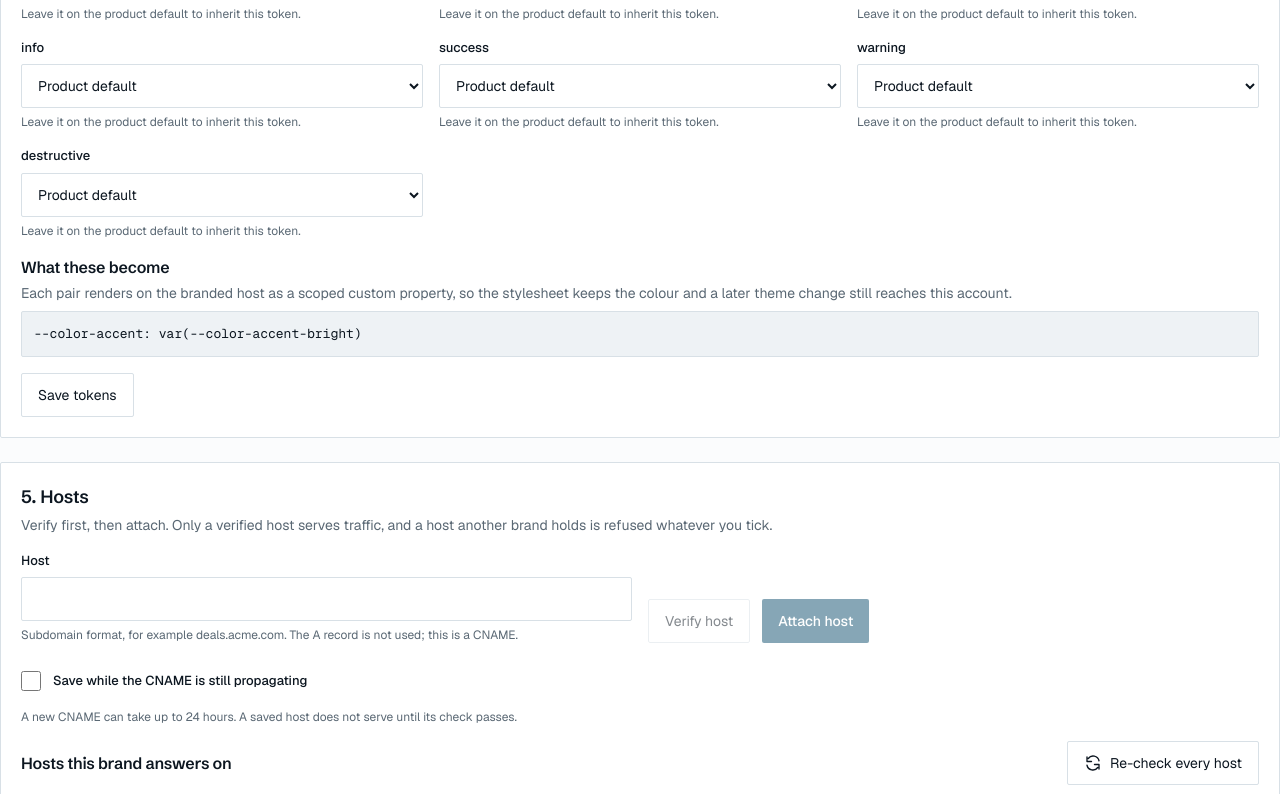
Test: brand tokens › shows the server's refusal of a colour value
(page scrolled)
Click the button "Save tokens" at (77, 395), box [21,373,134,417]
(page scrolled)
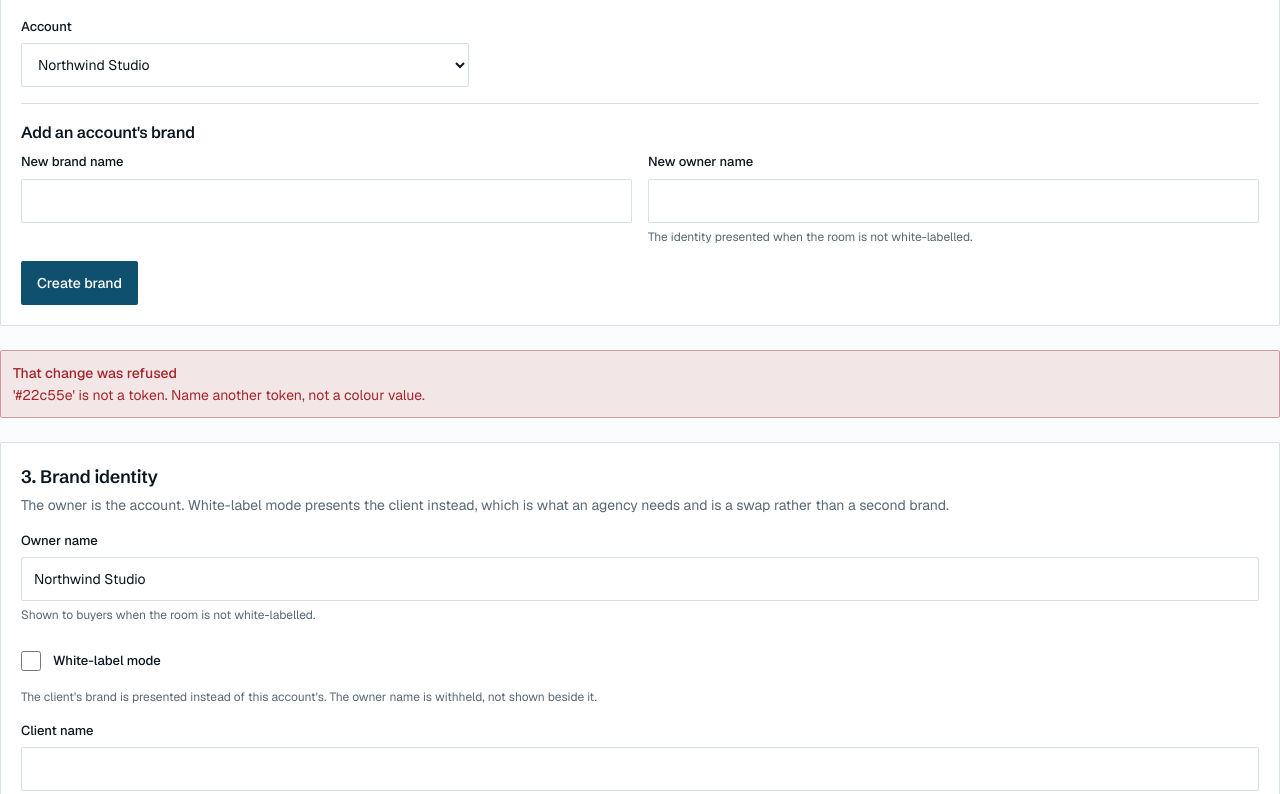
Expected: the text "not a colour value" is shown, [13,386,425,404]
